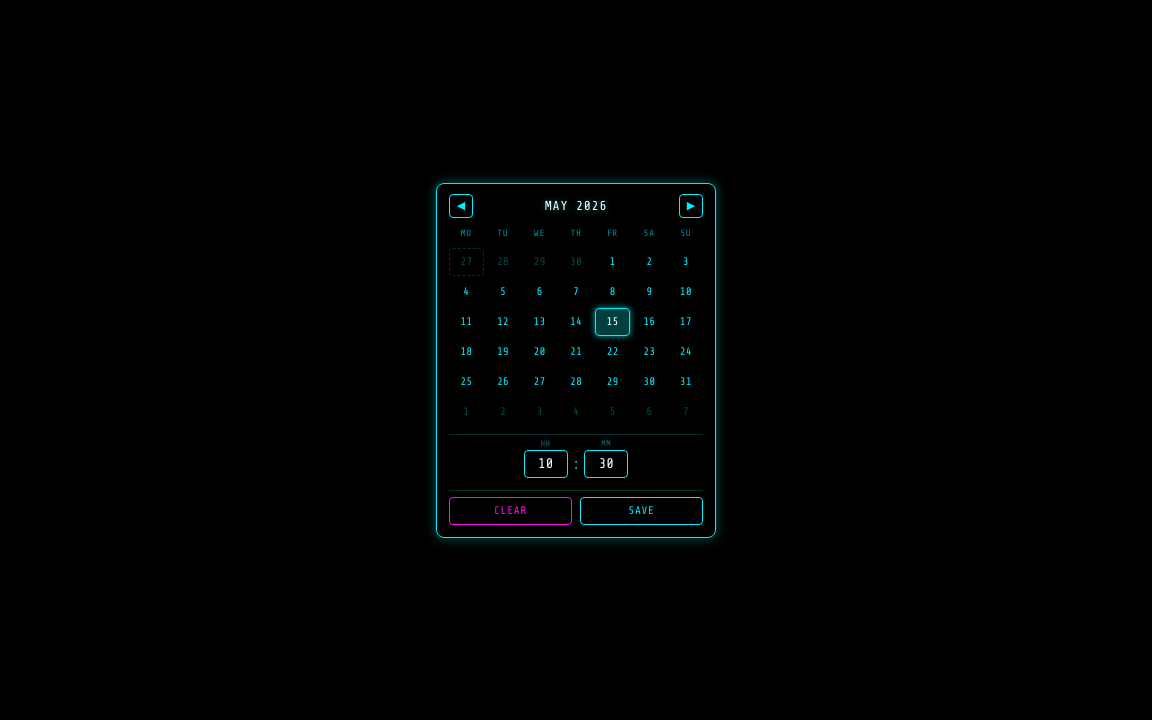
Test case: NeonDateTimePicker › next/prev month buttons navigate the header
This screenshot has width=1152, height=720.
Click the button named "Next month".
click(691, 206)  # box [679,194,703,218]
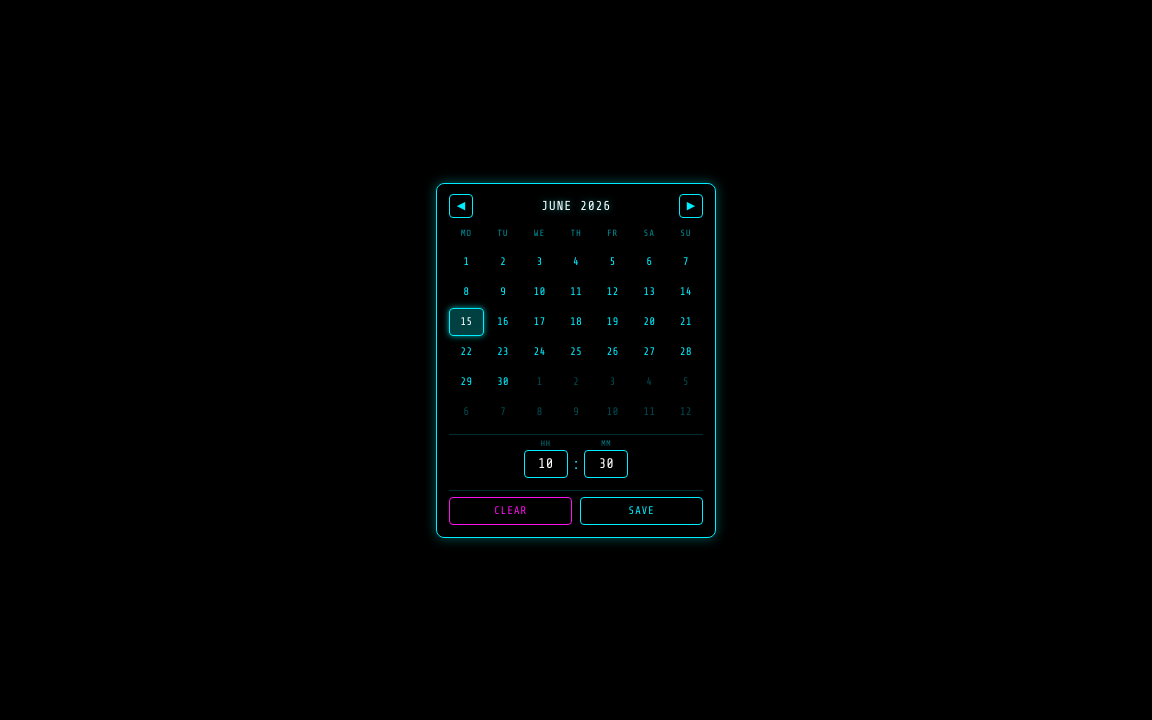
Now the text "June 2026" is shown, box [541,198,611,213]
Click the button named "Previous month".
click(461, 206)  # box [449,194,473,218]
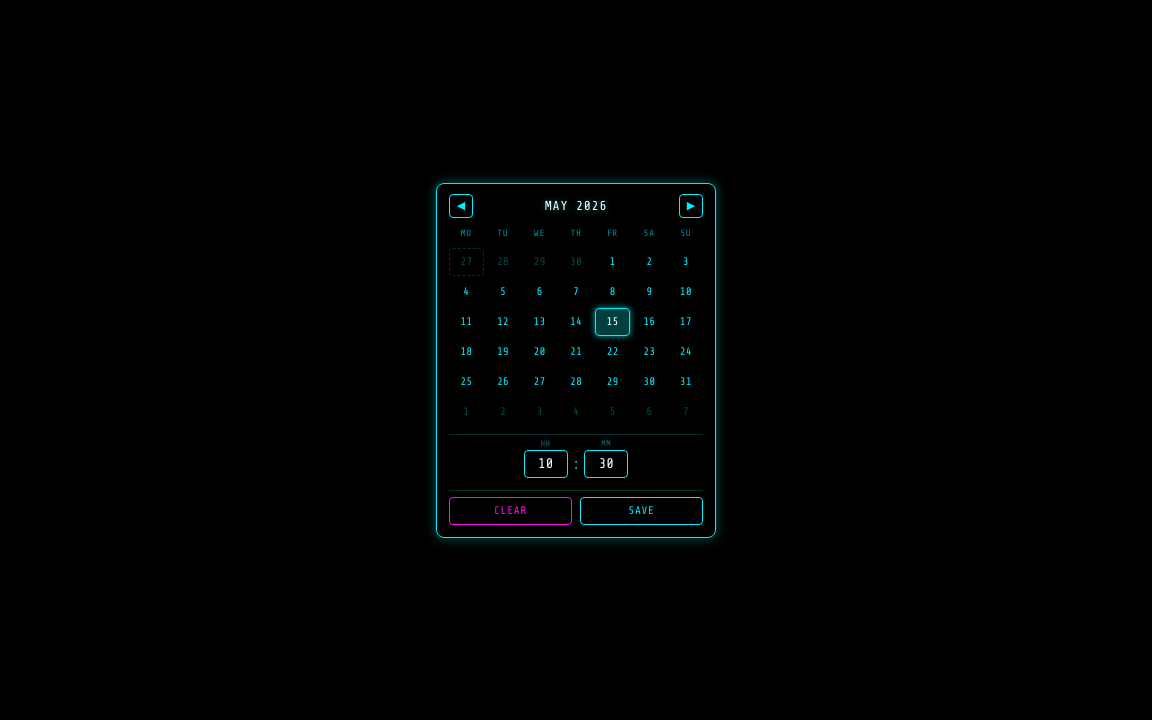
Now the text "May 2026" is shown, box [545,198,607,213]
